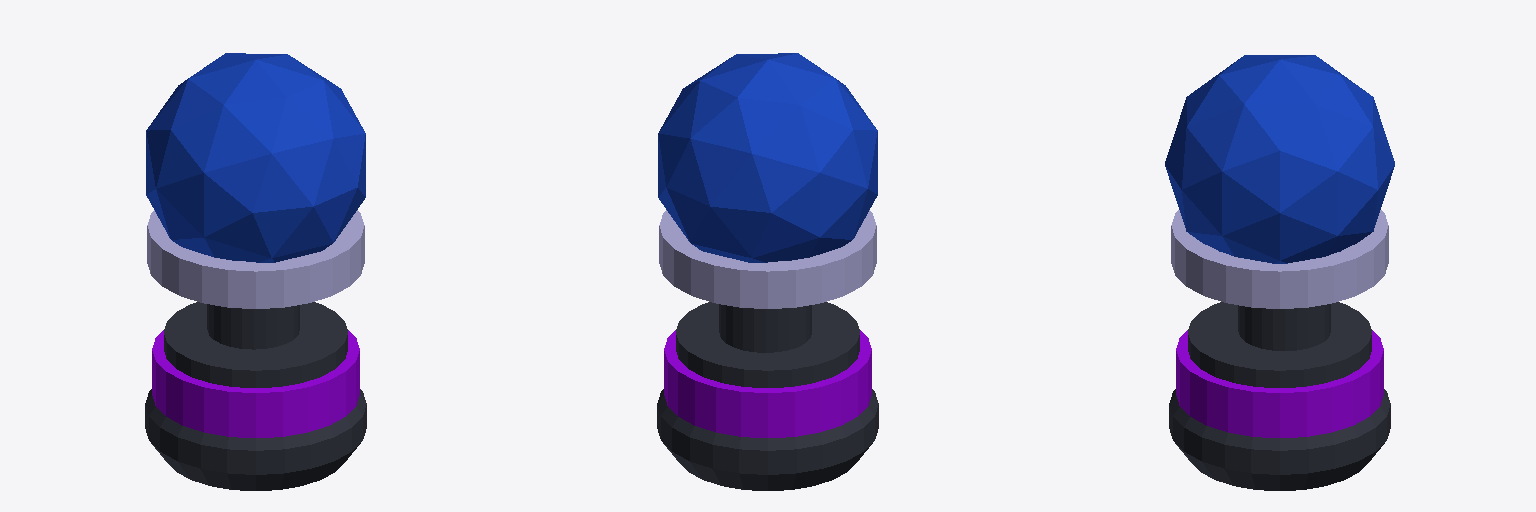
File: tower_star_of_adam.obj
3 views of the same model, side by side, from view 1: azimuth 30°, elevation 25°; view 2: azimuth 150°, elevation 25°; view 3: azimuth 270°, elevation 25° (orthographic).
Visible parts, largest first — view 1: mergedBlocks; view 2: mergedBlocks; view 3: mergedBlocks.
Boxes of the visible parts, x1,y1,x2,y2 form: mergedBlocks: [145, 53, 366, 490]; mergedBlocks: [657, 53, 878, 490]; mergedBlocks: [1165, 55, 1394, 490].
Size of the model in its own units: 1 by 1.88 by 1.